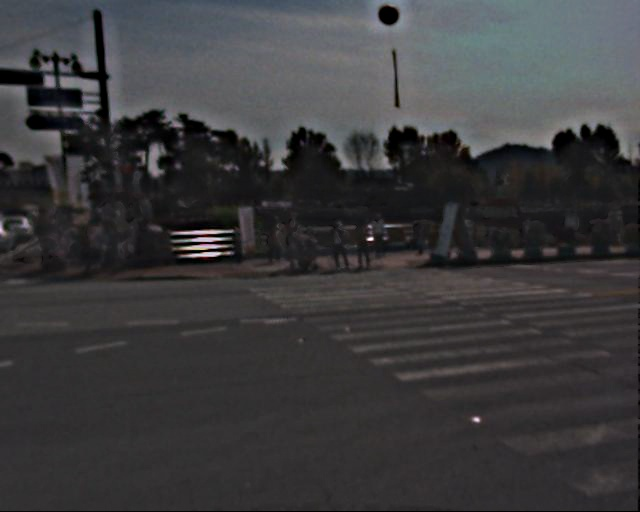person: (31, 204, 76, 273), (81, 212, 117, 272), (283, 208, 308, 270), (104, 207, 129, 264), (328, 215, 351, 271), (355, 215, 377, 269), (370, 206, 391, 258), (267, 215, 288, 265)
